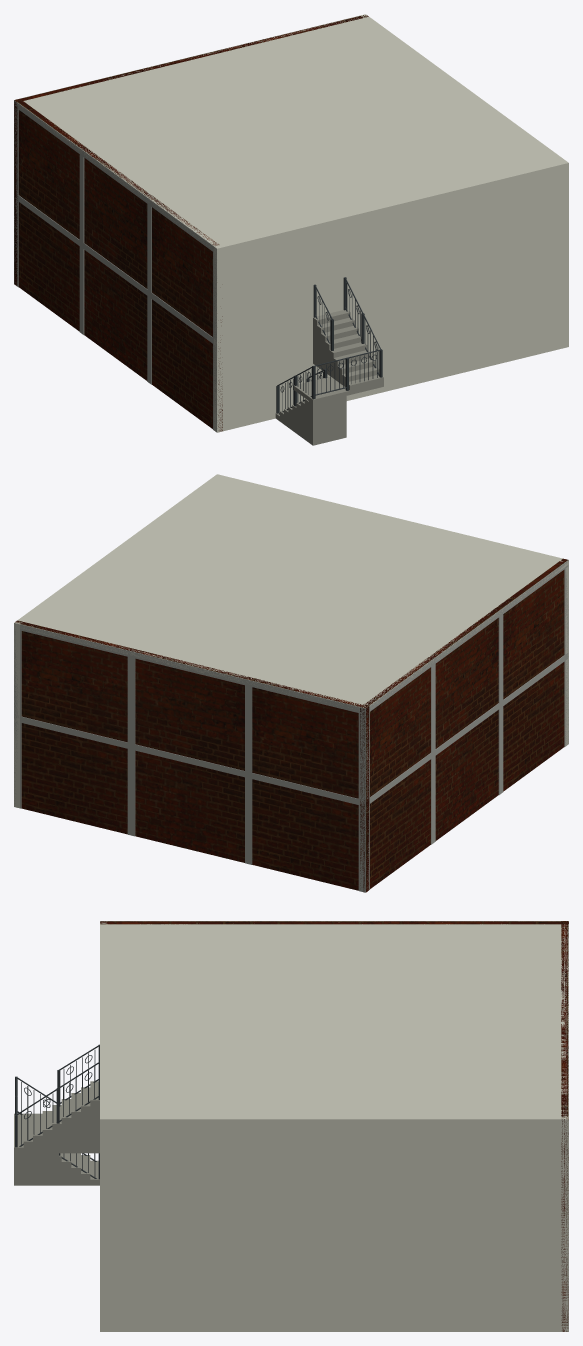
The model's file is building.glb.
The picture shows the model from 3 angles, top to bottom: view 1: azimuth 30°, elevation 25°; view 2: azimuth 150°, elevation 25°; view 3: azimuth 270°, elevation 25°; orthographic projection. The views are drawn at different scales.
Parts seen in each view (by area): view 1: roof/house:0/roof_slab#0001, house:0/edge0/z0/house:0/edge0/z0/wall_0_0, house:0/edge3/z0/house:0/edge3/z0/wall_0_0, house:0/edge2/z0/house:0/edge2/z0/wall_0_0, house:0/edge0/z0/stair_00/exterior_stair_step#0009, house:0/edge1/z0/house:0/edge1/z0/wall_0_0, house:0/edge3/z0/house:0/edge3/z0/beam_1_0, house:0/edge3/z0/house:0/edge3/z0/beam_0_0, house:0/edge0/z0/stair_00/exterior_stair_landing#0001; view 2: roof/house:0/roof_slab#0001, house:0/edge2/z0/house:0/edge2/z0/wall_0_0, house:0/edge3/z0/house:0/edge3/z0/wall_0_0, house:0/edge2/z0/house:0/edge2/z0/beam_0_0, house:0/edge2/z0/house:0/edge2/z0/beam_1_0, house:0/edge1/z0/house:0/edge1/z0/wall_0_0, house:0/edge0/z0/house:0/edge0/z0/wall_0_0, house:0/edge3/z0/house:0/edge3/z0/beam_0_0, house:0/edge3/z0/house:0/edge3/z0/beam_1_0, house:0/edge2/z0/house:0/edge2/z0/column_2_0, house:0/edge2/z0/house:0/edge2/z0/column_2_1, house:0/edge2/z0/house:0/edge2/z0/column_1_1 (+3 smaller); view 3: house:0/edge1/z0/house:0/edge1/z0/wall_0_0, roof/house:0/roof_slab#0001, house:0/edge0/z0/house:0/edge0/z0/wall_0_0, house:0/edge2/z0/house:0/edge2/z0/wall_0_0, house:0/edge3/z0/house:0/edge3/z0/wall_0_0, house:0/edge0/z0/stair_00/exterior_stair_step#0018, house:0/edge0/z0/stair_00/exterior_stair_step#0017, house:0/edge0/z0/stair_00/exterior_stair_step#0016, house:0/edge0/z0/stair_00/exterior_stair_step#0015.
Boxes of the visible parts, x1=… form: roof/house:0/roof_slab#0001: x1=14, y1=14, x2=568, y2=251; house:0/edge0/z0/house:0/edge0/z0/wall_0_0: x1=213, y1=160, x2=568, y2=432; house:0/edge3/z0/house:0/edge3/z0/wall_0_0: x1=15, y1=99, x2=222, y2=431; house:0/edge2/z0/house:0/edge2/z0/wall_0_0: x1=14, y1=15, x2=368, y2=285; house:0/edge0/z0/stair_00/exterior_stair_step#0009: x1=309, y1=389, x2=346, y2=445; house:0/edge1/z0/house:0/edge1/z0/wall_0_0: x1=360, y1=14, x2=568, y2=348; house:0/edge3/z0/house:0/edge3/z0/beam_1_0: x1=14, y1=100, x2=216, y2=253; house:0/edge3/z0/house:0/edge3/z0/beam_0_0: x1=14, y1=194, x2=216, y2=346; house:0/edge0/z0/stair_00/exterior_stair_landing#0001: x1=293, y1=376, x2=383, y2=400; roof/house:0/roof_slab#0001: x1=14, y1=474, x2=568, y2=712; house:0/edge2/z0/house:0/edge2/z0/wall_0_0: x1=15, y1=620, x2=369, y2=892; house:0/edge3/z0/house:0/edge3/z0/wall_0_0: x1=360, y1=558, x2=567, y2=892; house:0/edge2/z0/house:0/edge2/z0/beam_0_0: x1=14, y1=715, x2=365, y2=806; house:0/edge2/z0/house:0/edge2/z0/beam_1_0: x1=15, y1=623, x2=365, y2=714; house:0/edge1/z0/house:0/edge1/z0/wall_0_0: x1=14, y1=475, x2=219, y2=808; house:0/edge0/z0/house:0/edge0/z0/wall_0_0: x1=214, y1=474, x2=568, y2=745; house:0/edge3/z0/house:0/edge3/z0/beam_0_0: x1=365, y1=653, x2=568, y2=806; house:0/edge3/z0/house:0/edge3/z0/beam_1_0: x1=365, y1=560, x2=568, y2=712; house:0/edge2/z0/house:0/edge2/z0/column_2_0: x1=127, y1=657, x2=135, y2=744; house:0/edge2/z0/house:0/edge2/z0/column_2_1: x1=127, y1=749, x2=135, y2=836; house:0/edge2/z0/house:0/edge2/z0/column_1_1: x1=358, y1=713, x2=365, y2=800; house:0/edge1/z0/house:0/edge1/z0/wall_0_0: x1=100, y1=1116, x2=568, y2=1331; roof/house:0/roof_slab#0001: x1=100, y1=921, x2=568, y2=1124; house:0/edge0/z0/house:0/edge0/z0/wall_0_0: x1=100, y1=921, x2=107, y2=1331; house:0/edge2/z0/house:0/edge2/z0/wall_0_0: x1=561, y1=921, x2=568, y2=1331; house:0/edge3/z0/house:0/edge3/z0/wall_0_0: x1=100, y1=921, x2=568, y2=924; house:0/edge0/z0/stair_00/exterior_stair_step#0018: x1=90, y1=1081, x2=99, y2=1153; house:0/edge0/z0/stair_00/exterior_stair_step#0017: x1=81, y1=1087, x2=90, y2=1153; house:0/edge0/z0/stair_00/exterior_stair_step#0016: x1=71, y1=1093, x2=80, y2=1153; house:0/edge0/z0/stair_00/exterior_stair_step#0015: x1=61, y1=1099, x2=71, y2=1153.
Size of the model in its own units: 12 by 6 by 14.2.
5 materials, 1 textured.
